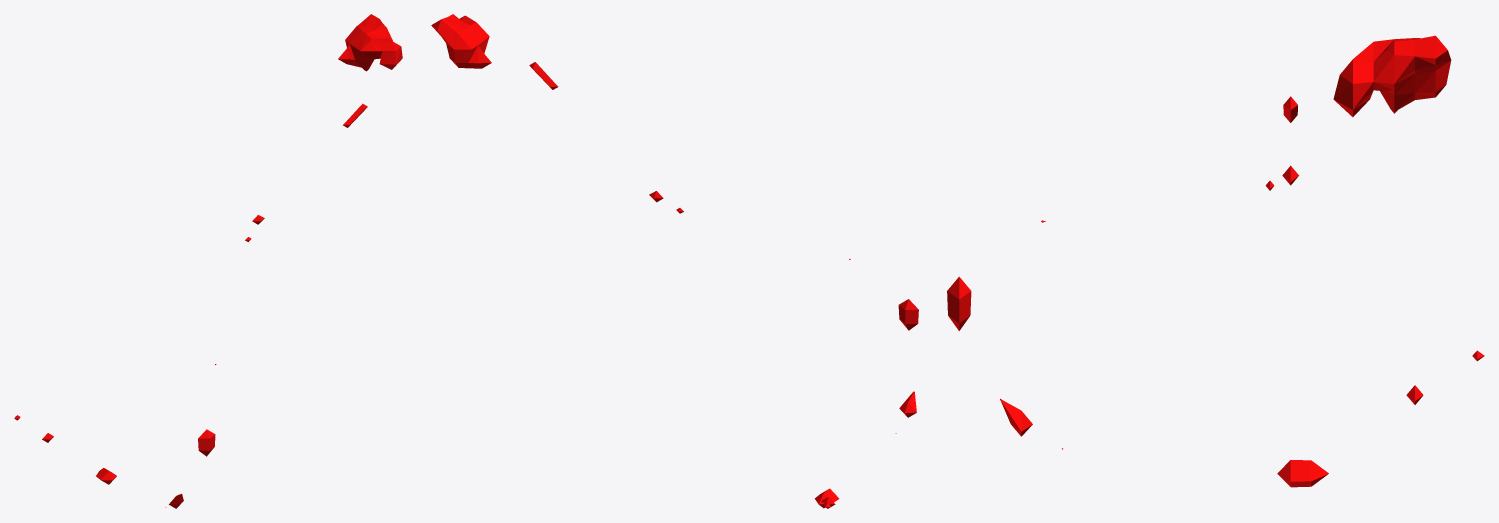
File: glnE_coarse.dae
The picture shows the model from 3 angles, left to right: view 1: azimuth 30°, elevation 25°; view 2: azimuth 150°, elevation 25°; view 3: azimuth 270°, elevation 25°; orthographic projection. The views are drawn at different scales.
Parts seen in each view (by area): view 1: glnE; view 2: glnE; view 3: glnE.
Boxes of the visible parts, left/top/right/bottom form: glnE: left=14, top=14, right=402, bottom=508; glnE: left=431, top=14, right=918, bottom=508; glnE: left=947, top=35, right=1484, bottom=487.
Bounding box in the file's own units: 551 × 547 × 359.
